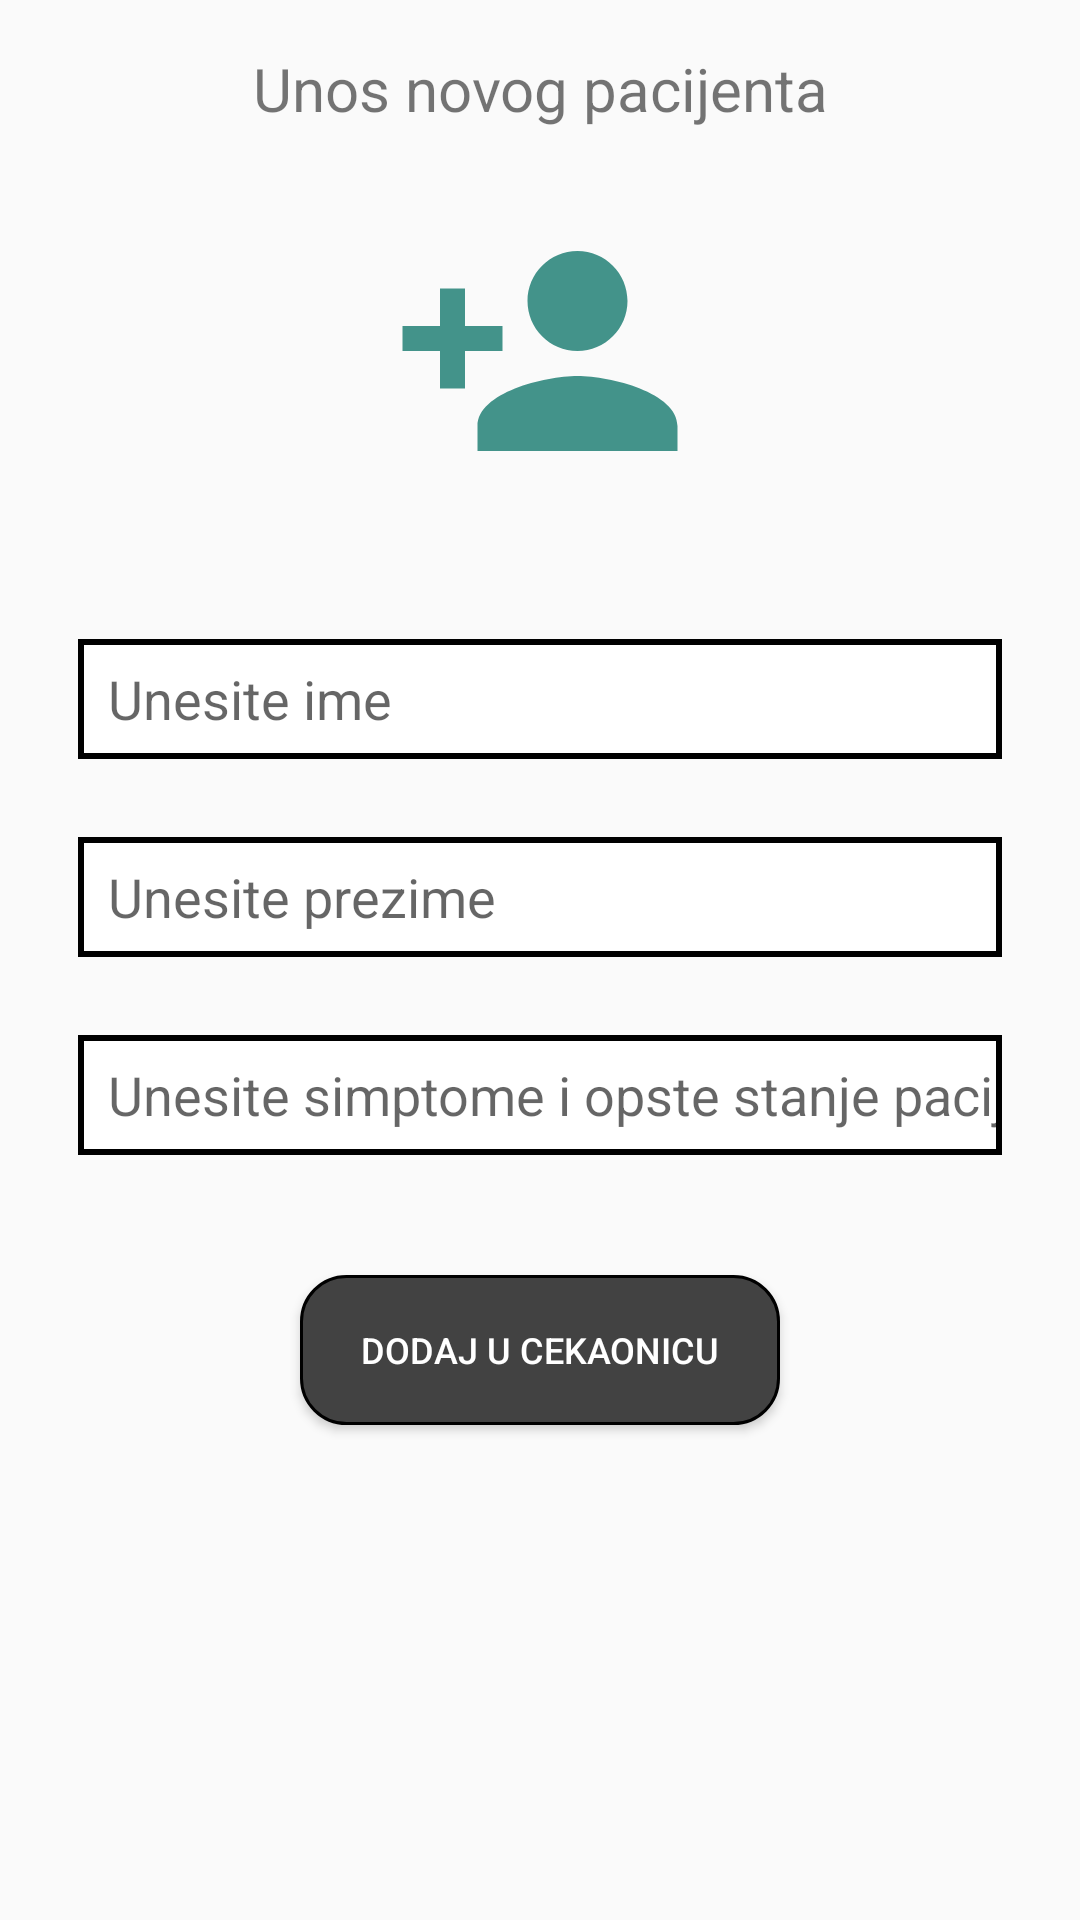

Where icons sit on this 1080w x 1920h app screen, as (x1, y1, x2, y2):
person add: (402, 251, 678, 451)
